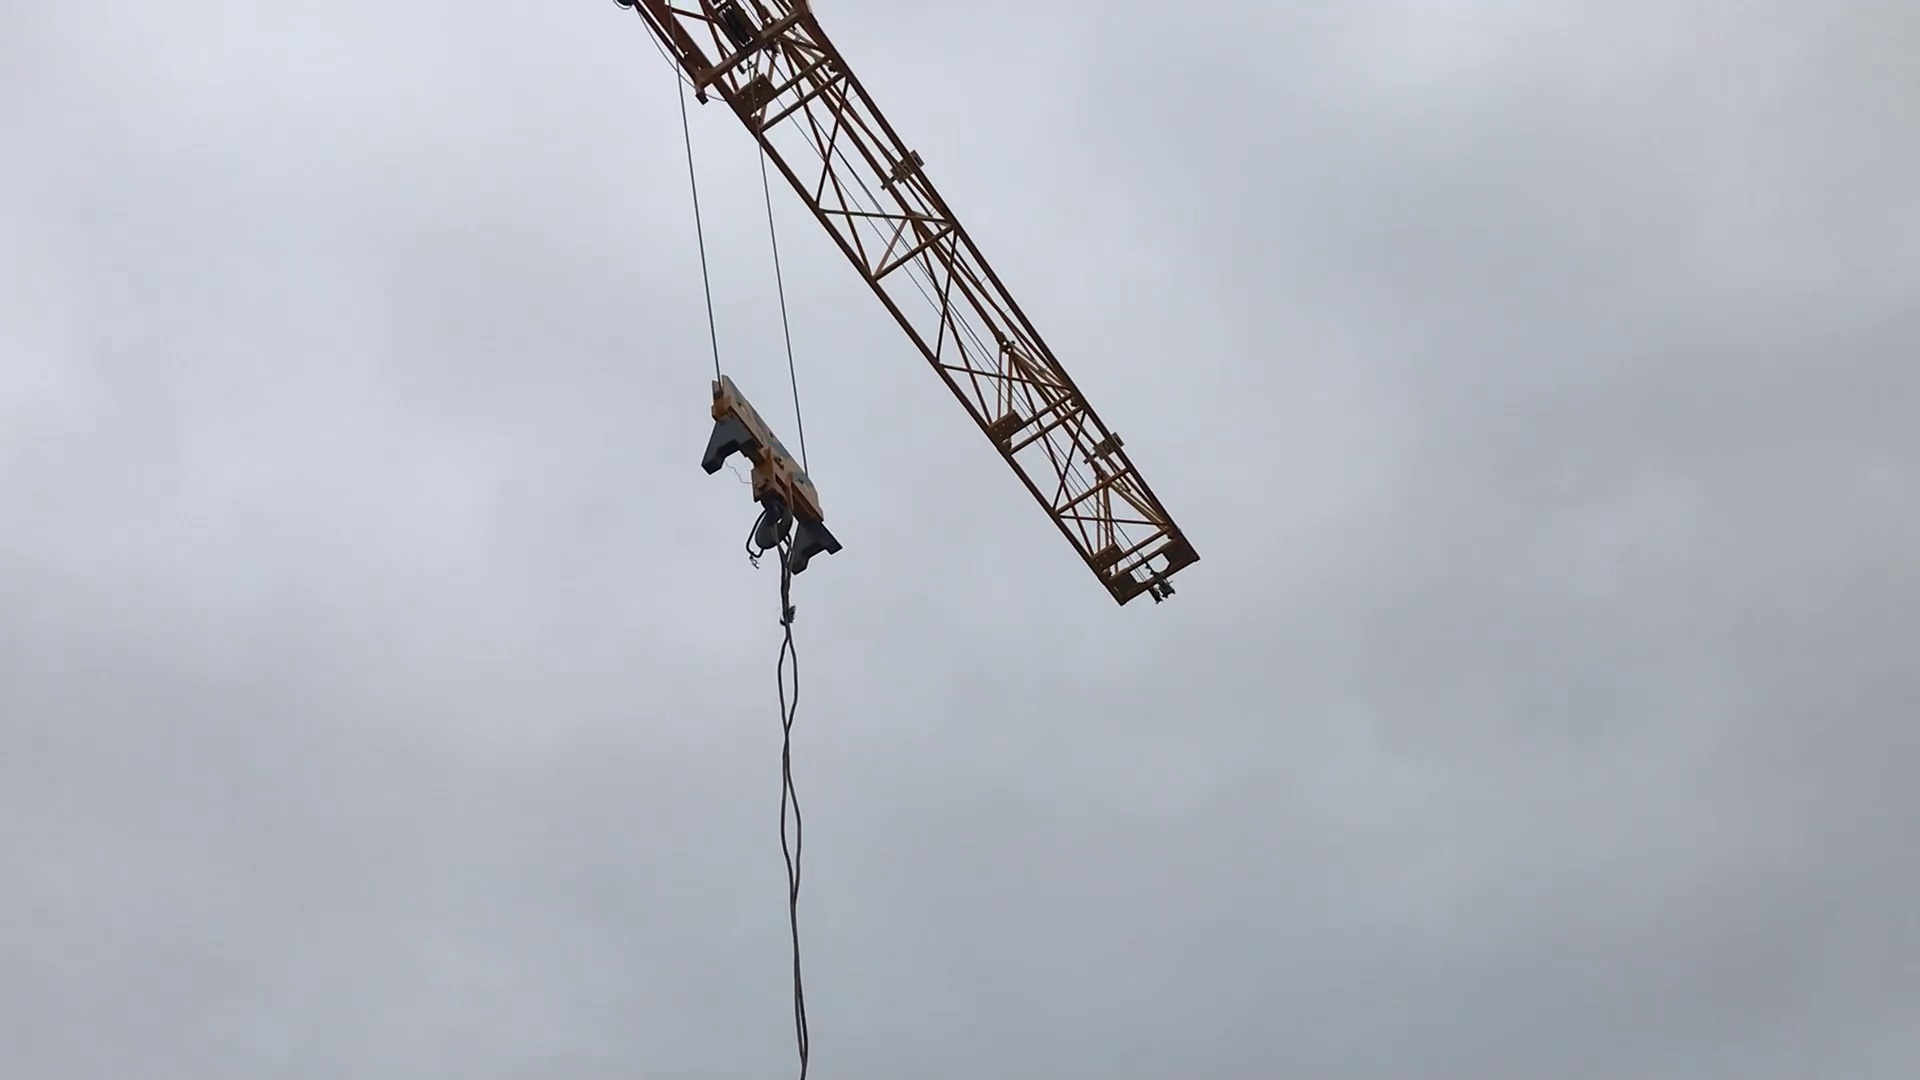hook: (694, 363, 866, 592)
